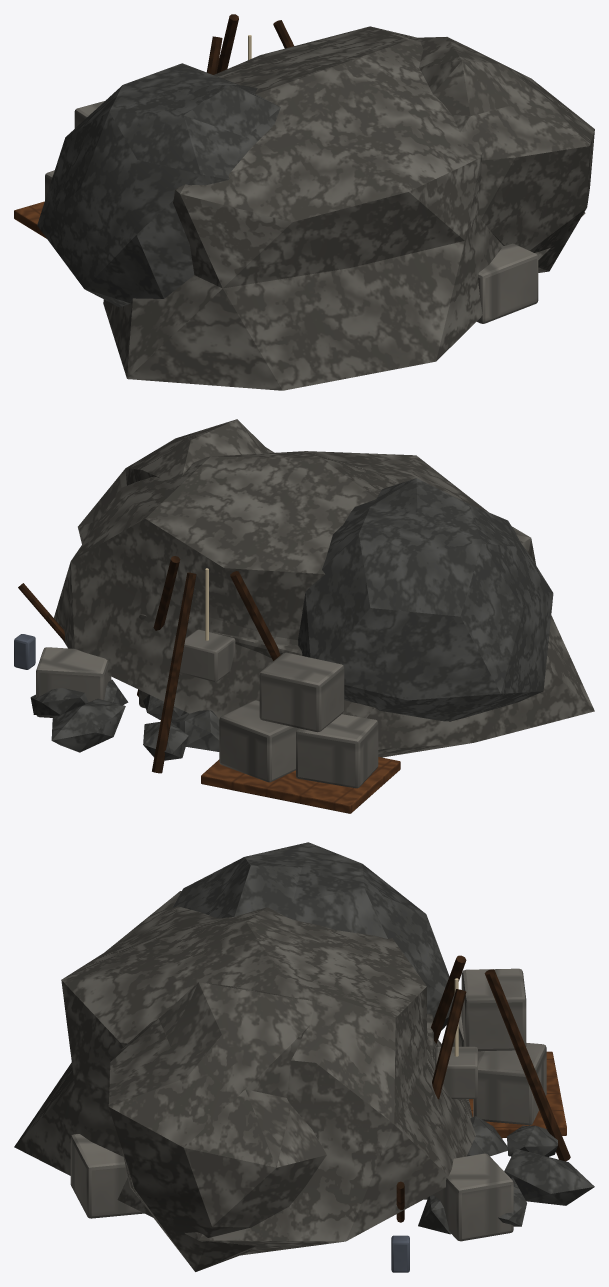
The model's file is resource_stone_quarry.glb.
3 views of the same model, one above another, from view 1: azimuth 30°, elevation 25°; view 2: azimuth 150°, elevation 25°; view 3: azimuth 270°, elevation 25° (orthographic). The views are drawn at different scales.
Parts seen in each view (by area): view 1: resource_stone_quarry; view 2: resource_stone_quarry; view 3: resource_stone_quarry.
Part boxes in pixels (bbox=[...]): resource_stone_quarry: bbox=[14, 14, 594, 390]; resource_stone_quarry: bbox=[14, 419, 594, 813]; resource_stone_quarry: bbox=[14, 842, 594, 1272].
Bounding box in the file's own units: 4.46 × 2.35 × 4.36.
7 materials, 6 textured.
